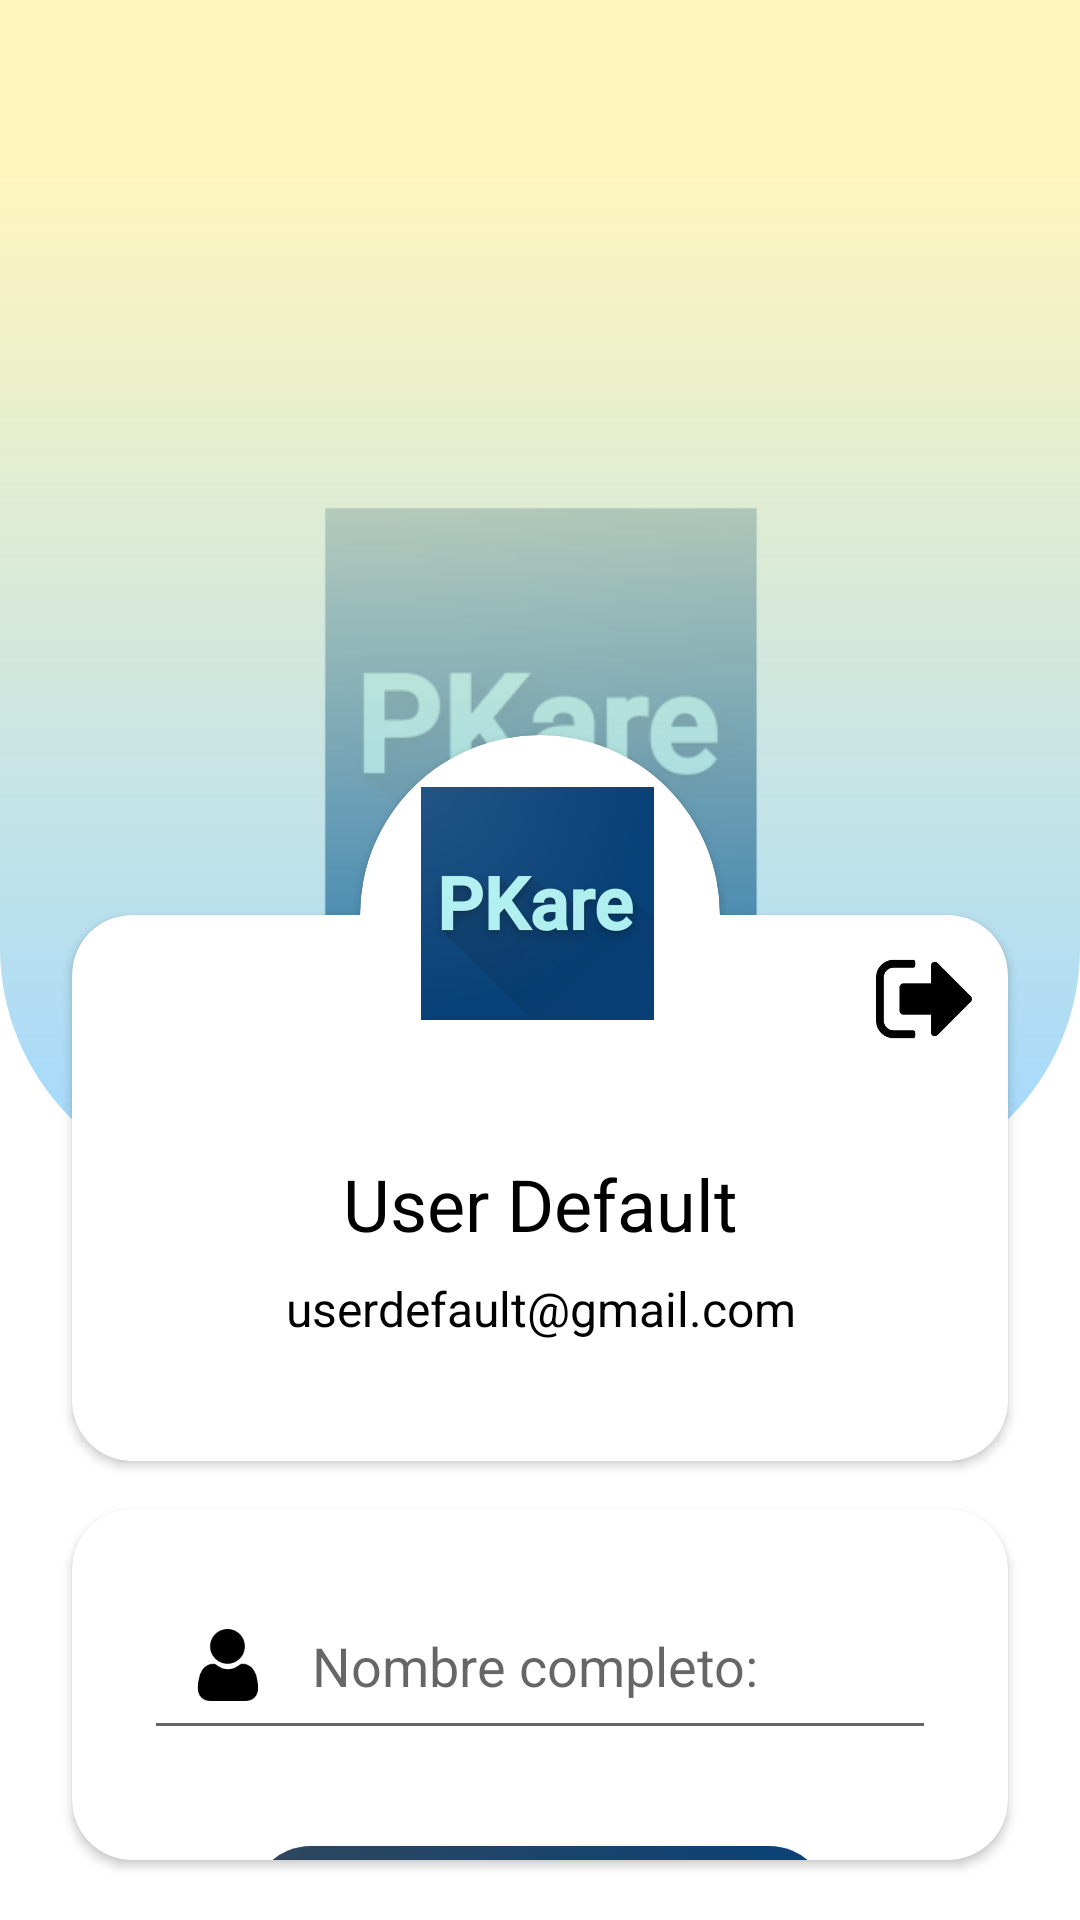

Named icons in this screenshot (1080 × 1920) and their bounding boxes, box=[x1, y1, x2, y2]:
sign out: box=[876, 960, 972, 1039]
